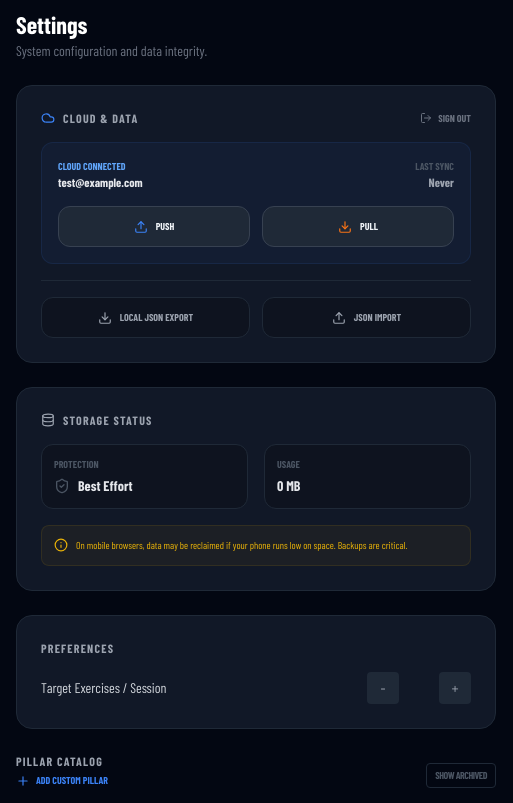
Settings Component › handles successful pull from cloud
Click the button "Pull" at x=358, y=226, box [262, 206, 454, 247]
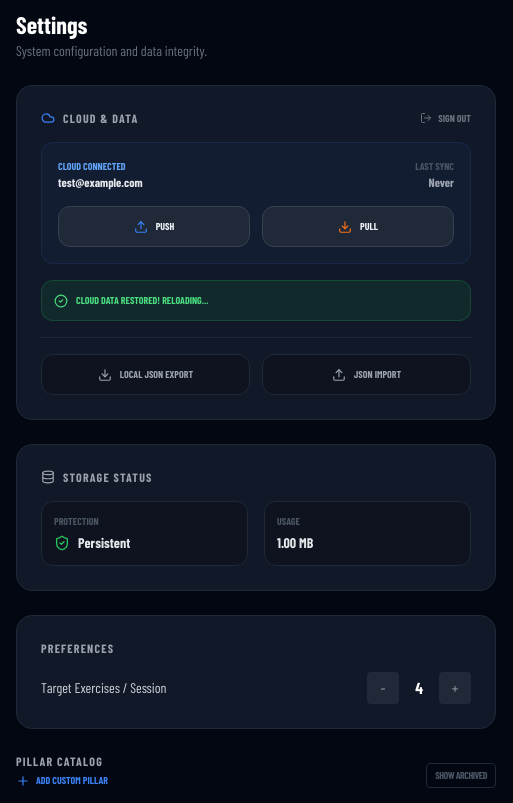
expect the text "Cloud data restored! Reloading..." is shown: met, box [76, 293, 208, 308]
